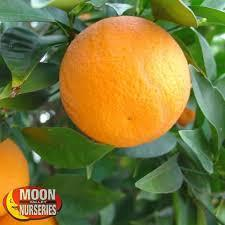orange: (55, 15, 193, 145)
